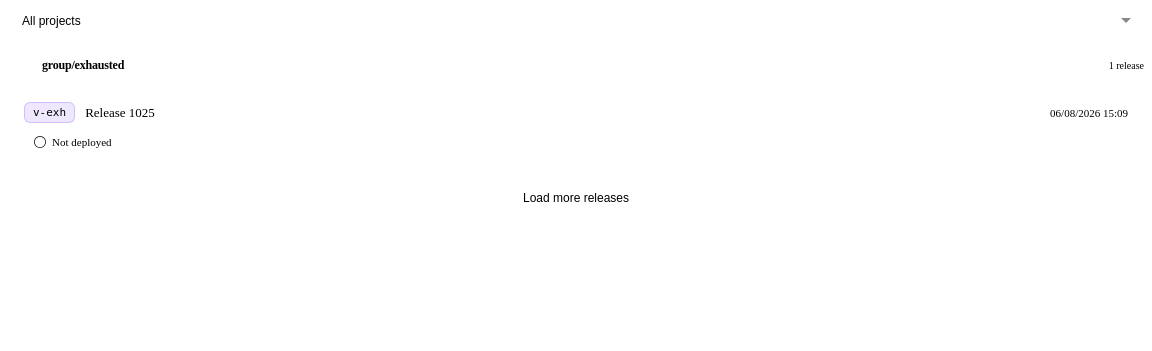
POView › pagination ("Load more releases") › hides "Load more releases" once fewer than perPage results are returned
Expected: the text "v-exh" is shown, [24,102,75,123]
Click the button "Load more releases": point(576, 198) [8,181,1144,215]
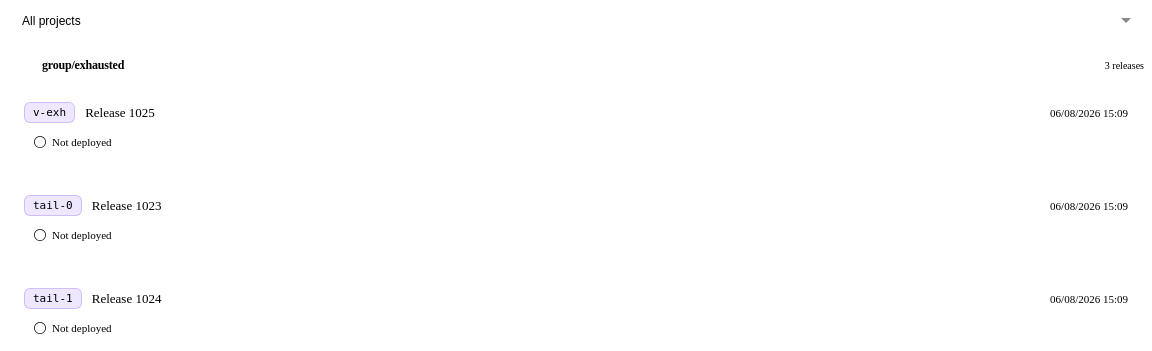
Expected: the text "tail-0" is shown, [24,195,82,216]
Expected: the button "Load more releases" is gone
